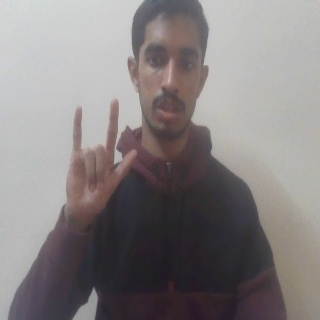Face: (125, 3, 210, 141)
I Love You: (64, 96, 139, 223)
